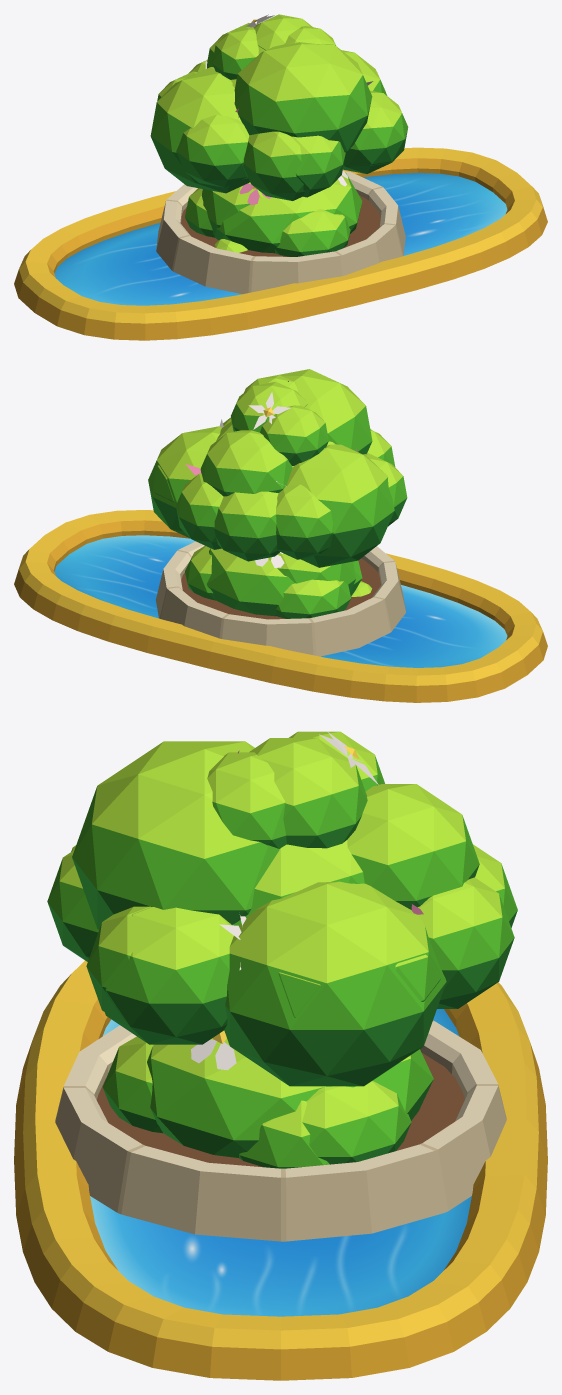
The model's file is EnvironmentKit.fbx.
The picture shows the model from 3 angles, top to bottom: view 1: azimuth 30°, elevation 25°; view 2: azimuth 150°, elevation 25°; view 3: azimuth 270°, elevation 25°; orthographic projection. The views are drawn at different scales.
Visible parts, largest first — view 1: Env_Pond_Rim, Env_Planter, Env_Tree_B, Env_Pond_Water, Env_Tree_A, Env_Tree_C, Env_Bush_B; view 2: Env_Pond_Rim, Env_Tree_B, Env_Planter, Env_Pond_Water, Env_Tree_A, Env_Tree_C, Env_Bush_B; view 3: Env_Tree_B, Env_Planter, Env_Pond_Rim, Env_Pond_Water, Env_Tree_A, Env_Tree_C, Env_Bush_B.
Boxes of the visible parts, x1,y1,x2,y2 form: Env_Pond_Rim: [14, 147, 547, 340]; Env_Planter: [156, 170, 405, 294]; Env_Tree_B: [150, 14, 387, 193]; Env_Pond_Water: [54, 173, 507, 305]; Env_Tree_A: [157, 26, 404, 197]; Env_Tree_C: [188, 14, 408, 200]; Env_Bush_B: [201, 182, 262, 252]; Env_Pond_Rim: [14, 510, 547, 702]; Env_Tree_B: [148, 369, 394, 567]; Env_Planter: [156, 541, 405, 656]; Env_Pond_Water: [54, 535, 507, 667]; Env_Tree_A: [176, 375, 407, 559]; Env_Tree_C: [154, 381, 395, 561]; Env_Bush_B: [268, 553, 371, 596]; Env_Tree_B: [72, 738, 479, 1086]; Env_Planter: [55, 1020, 506, 1241]; Env_Pond_Rim: [14, 960, 547, 1380]; Env_Pond_Water: [90, 1009, 471, 1316]; Env_Tree_A: [47, 731, 514, 1020]; Env_Tree_C: [71, 732, 517, 1044]; Env_Bush_B: [239, 1100, 329, 1168].
Bounding box in the file's own units: 3.44 × 1.57 × 1.76.
Materials: 2 (2 with a texture image).
